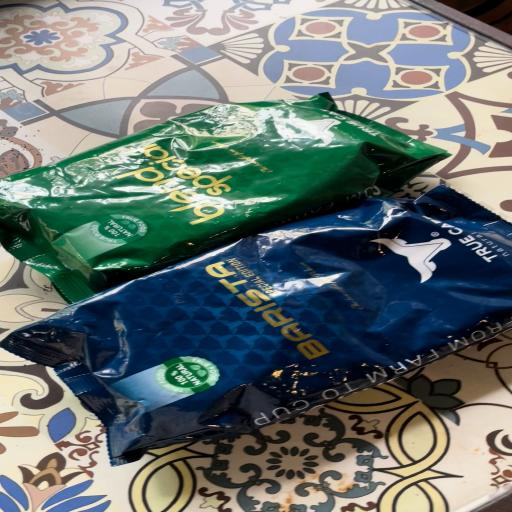cafe_hat: (1, 186, 512, 465)
cafe_xay: (0, 93, 445, 303)
